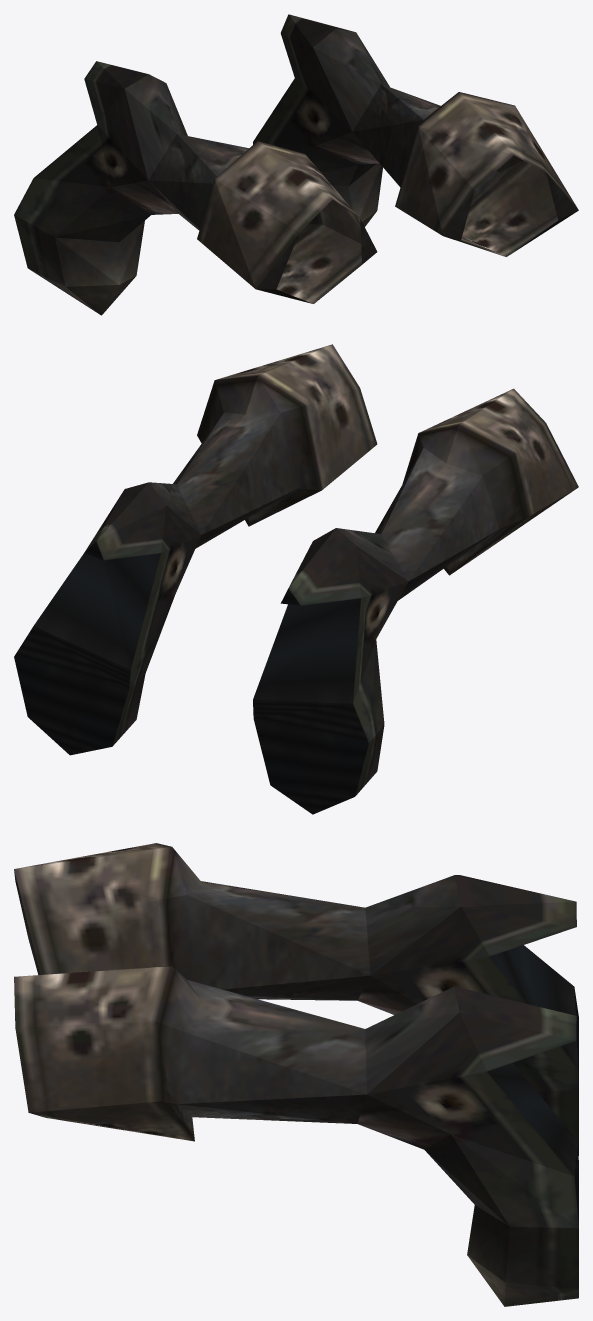
The model's file is knight_shoe_female_46510.obj.
The picture shows the model from 3 angles, top to bottom: view 1: azimuth 30°, elevation 25°; view 2: azimuth 150°, elevation 25°; view 3: azimuth 270°, elevation 25°; orthographic projection. The views are drawn at different scales.
Parts seen in each view (by area): view 1: knight_shoe_female_46510; view 2: knight_shoe_female_46510; view 3: knight_shoe_female_46510.
Boxes of the visible parts, <box> form: knight_shoe_female_46510: <box>14,14,578,315</box>; knight_shoe_female_46510: <box>14,344,578,814</box>; knight_shoe_female_46510: <box>14,843,578,1306</box>.
Bounding box in the file's own units: 19.88 × 14.45 × 22.51.
Materials: 1 (1 with a texture image).
